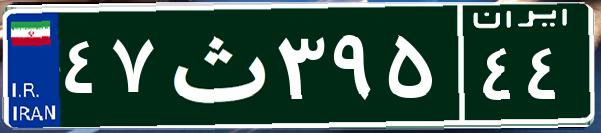3: (273, 28, 330, 110)
4: (57, 26, 110, 107), (475, 38, 525, 113), (525, 38, 570, 115)
5: (385, 28, 445, 110)
7: (110, 28, 158, 105)
9: (330, 28, 385, 110)
ث: (158, 15, 273, 115)
